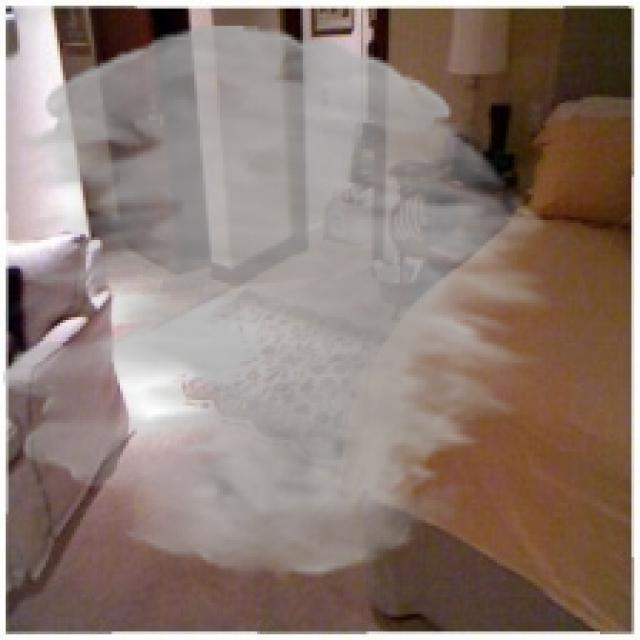smoke: (3, 26, 551, 577)
